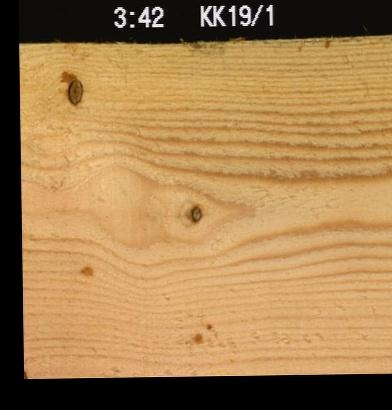dry_knot: (65, 77, 83, 105), (187, 203, 203, 223)
